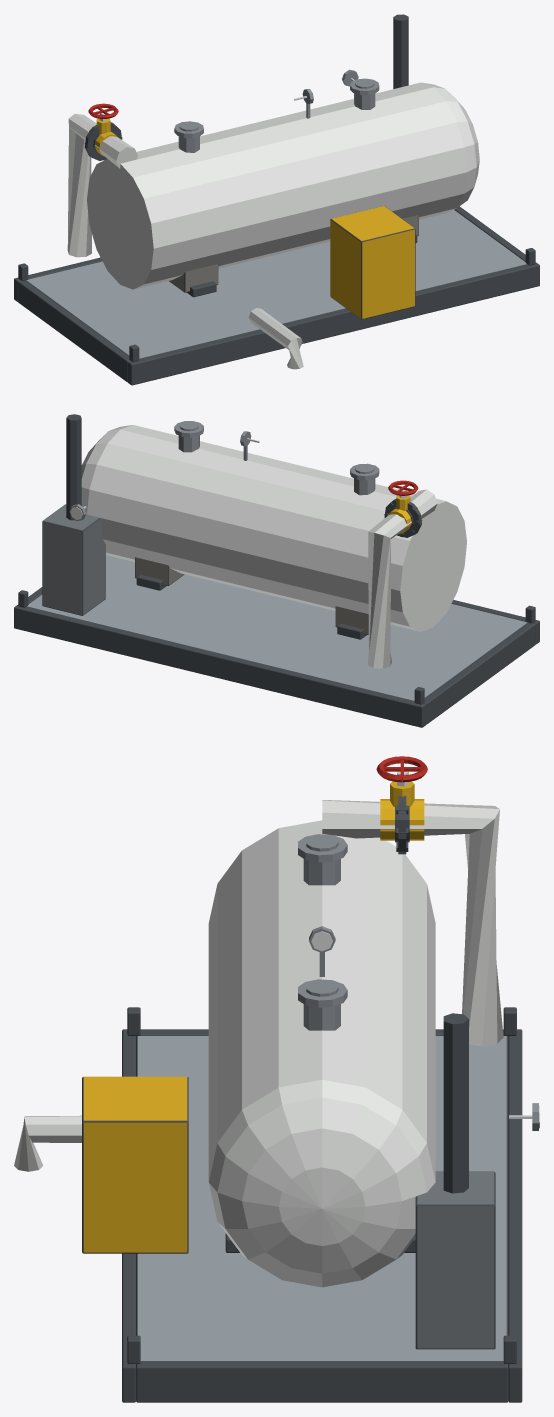
File: on_separator.glb
3 renders of one model, top to bottom at view 1: azimuth 30°, elevation 25°; view 2: azimuth 150°, elevation 25°; view 3: azimuth 270°, elevation 25°, orthographic. The views are drawn at different scales.
Visible parts, largest first — view 1: on_separator; view 2: on_separator; view 3: on_separator.
Part boxes in pixels (box(x1,y1,x2,y2)): on_separator: box(14, 14, 539, 385); on_separator: box(14, 414, 539, 727); on_separator: box(14, 756, 539, 1402).
Size of the model in its own units: 6 by 2.9 by 3.94.
